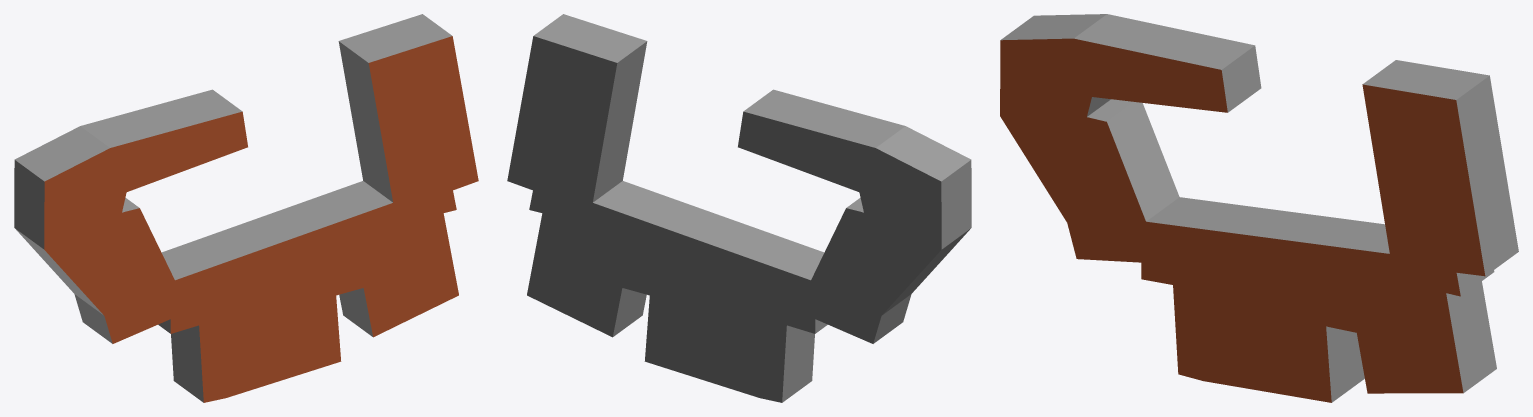
File: construction_4942_assumed_A_Casa_h6m.obj
3 renders of one model, left to right at view 1: azimuth 30°, elevation 25°; view 2: azimuth 150°, elevation 25°; view 3: azimuth 330°, elevation 25°, orthographic. The views are drawn at different scales.
Visible parts, largest first — view 1: construction_4942_assumed_A_Casa; view 2: construction_4942_assumed_A_Casa; view 3: construction_4942_assumed_A_Casa.
Part boxes in pixels (x1=…): construction_4942_assumed_A_Casa: x1=14, y1=14, x2=478, y2=402; construction_4942_assumed_A_Casa: x1=507, y1=14, x2=971, y2=402; construction_4942_assumed_A_Casa: x1=1000, y1=14, x2=1518, y2=402.
Size of the model in its own units: 50.08 by 33.81 by 6.
